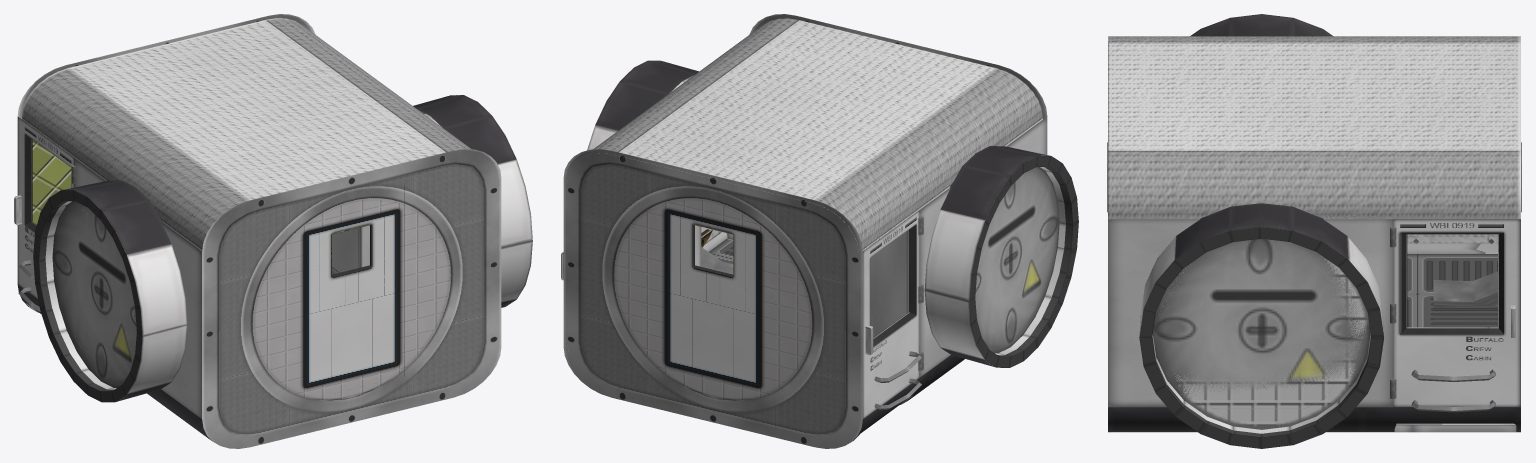
Rendered from CrewCabInterior.FBX.
3 renders of one model, left to right at view 1: azimuth 30°, elevation 25°; view 2: azimuth 150°, elevation 25°; view 3: azimuth 270°, elevation 25°, orthographic. The views are drawn at different scales.
Parts seen in each view (by area): view 1: Firewalls, HardShell2U, DockinTunnel001, CrewPortPanel001, CrewCabBody, DockinTunnel002, Firewall003, Box004, Tube002; view 2: Firewalls, HardShell2U, DockinTunnel001, CrewPortPanel001, CrewCabBody, DockinTunnel002, Box009, Tube002; view 3: HardShell2U, CrewCabBody, CrewPortPanel002, DockinTunnel002, CrewPortPanel003, Floor, DockinTunnel001, SeatMount001, Tube001, LadderRung073, LadderRung072.
Boxes of the visible parts, x1=… form: Firewalls: x1=17, y1=14, x2=501, y2=448; HardShell2U: x1=22, y1=18, x2=471, y2=251; DockinTunnel001: x1=33, y1=180, x2=187, y2=402; CrewPortPanel001: x1=52, y1=201, x2=136, y2=387; CrewCabBody: x1=17, y1=117, x2=212, y2=441; DockinTunnel002: x1=413, y1=95, x2=532, y2=307; Firewall003: x1=32, y1=140, x2=71, y2=224; Box004: x1=332, y1=225, x2=369, y2=274; Tube002: x1=45, y1=201, x2=116, y2=389; Firewalls: x1=563, y1=14, x2=1047, y2=448; HardShell2U: x1=568, y1=18, x2=1042, y2=348; DockinTunnel001: x1=924, y1=146, x2=1078, y2=367; CrewPortPanel001: x1=975, y1=167, x2=1059, y2=353; CrewCabBody: x1=701, y1=117, x2=1047, y2=440; DockinTunnel002: x1=587, y1=60, x2=698, y2=150; Box009: x1=870, y1=230, x2=908, y2=337; Tube002: x1=995, y1=167, x2=1065, y2=355; HardShell2U: x1=1108, y1=36, x2=1520, y2=328; CrewCabBody: x1=1108, y1=219, x2=1520, y2=432; CrewPortPanel002: x1=1153, y1=238, x2=1370, y2=403; DockinTunnel002: x1=1139, y1=203, x2=1383, y2=448; CrewPortPanel003: x1=1156, y1=256, x2=1369, y2=429; Floor: x1=1407, y1=254, x2=1497, y2=327; DockinTunnel001: x1=1190, y1=14, x2=1333, y2=36; SeatMount001: x1=1433, y1=271, x2=1497, y2=307; Tube001: x1=1152, y1=334, x2=1370, y2=433; LadderRung073: x1=1411, y1=400, x2=1496, y2=412; LadderRung072: x1=1411, y1=369, x2=1495, y2=381.
Bounding box in the file's own units: 2.07 × 1.25 × 1.7.
